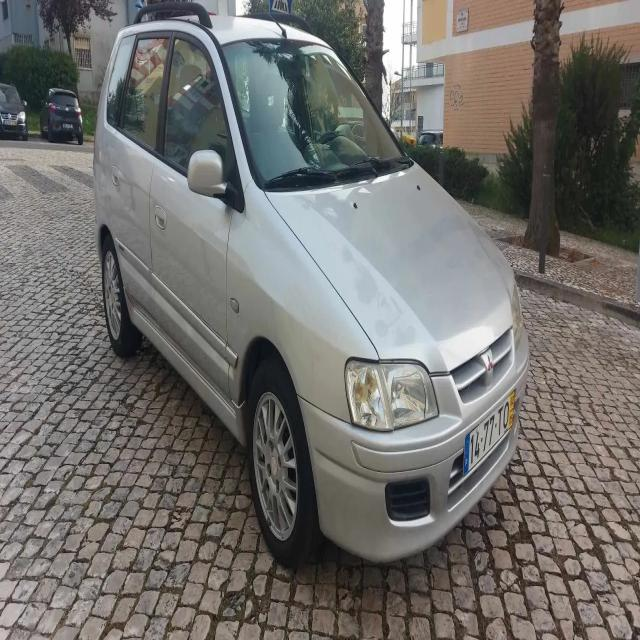portuguese-license-plates: (461, 382, 516, 484)
